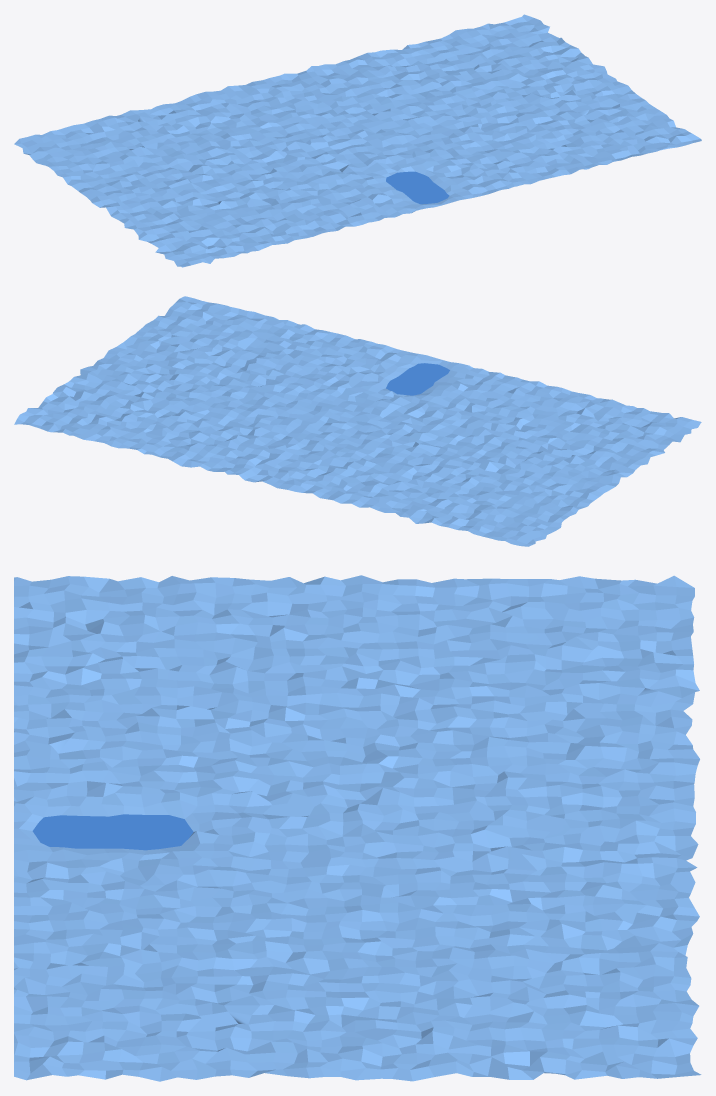
File: Winter_Level_Floor.fbx
The picture shows the model from 3 angles, top to bottom: view 1: azimuth 30°, elevation 25°; view 2: azimuth 150°, elevation 25°; view 3: azimuth 270°, elevation 25°; orthographic projection. The views are drawn at different scales.
Visible parts, largest first — view 1: Winter_Level_Floor; view 2: Winter_Level_Floor; view 3: Winter_Level_Floor.
Boxes of the visible parts, <box> form: Winter_Level_Floor: <box>14,14,701,267</box>; Winter_Level_Floor: <box>14,296,701,546</box>; Winter_Level_Floor: <box>14,575,701,1081</box>.
Size of the model in its own units: 6093 by 71.92 by 3502.
